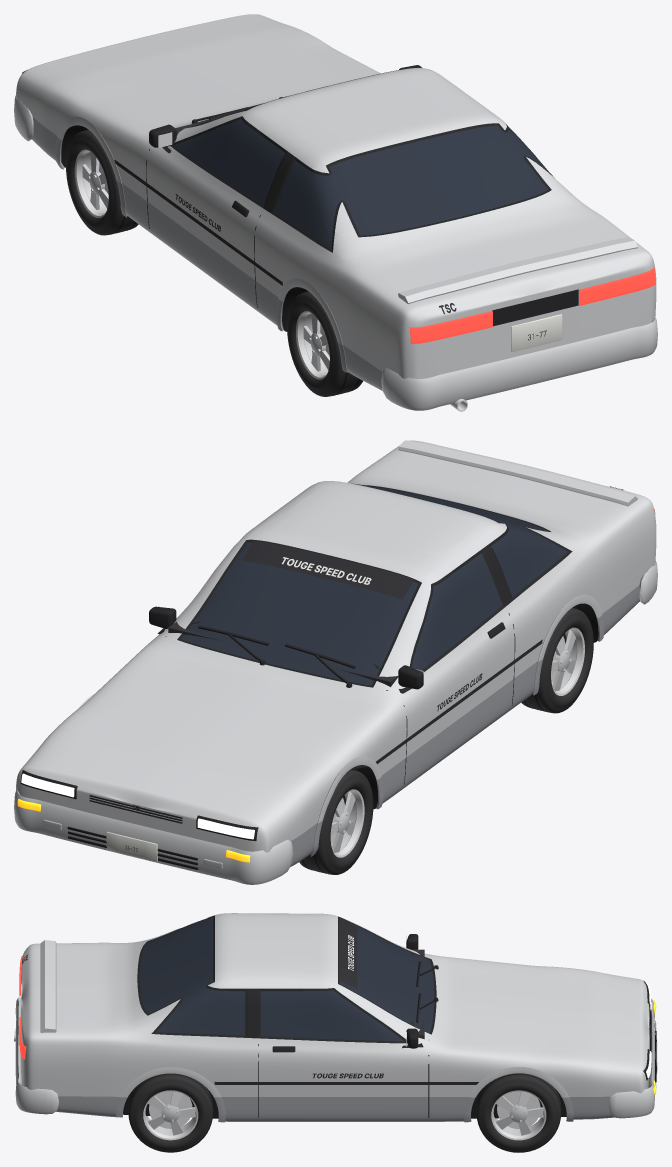
The picture shows the model from 3 angles, top to bottom: view 1: azimuth 30°, elevation 25°; view 2: azimuth 150°, elevation 25°; view 3: azimuth 270°, elevation 25°; orthographic projection. The views are drawn at different scales.
Parts seen in each view (by area): view 1: Body, Wheel_RL, Wheel_FL; view 2: Body, Wheel_FL, Wheel_RL; view 3: Body, Wheel_FR, Wheel_RR.
Boxes of the visible parts, box(x1,y1,x2,y2) form: Body: box(14, 14, 657, 411); Wheel_RL: box(287, 291, 362, 396); Wheel_FL: box(66, 129, 138, 235); Body: box(14, 440, 657, 884); Wheel_FL: box(299, 769, 373, 874); Wheel_RL: box(521, 607, 593, 713); Body: box(14, 913, 657, 1122); Wheel_FR: box(476, 1073, 561, 1152); Wheel_RR: box(128, 1073, 213, 1152).
Bounding box in the file's own units: 1.76 × 1.27 × 4.58.
